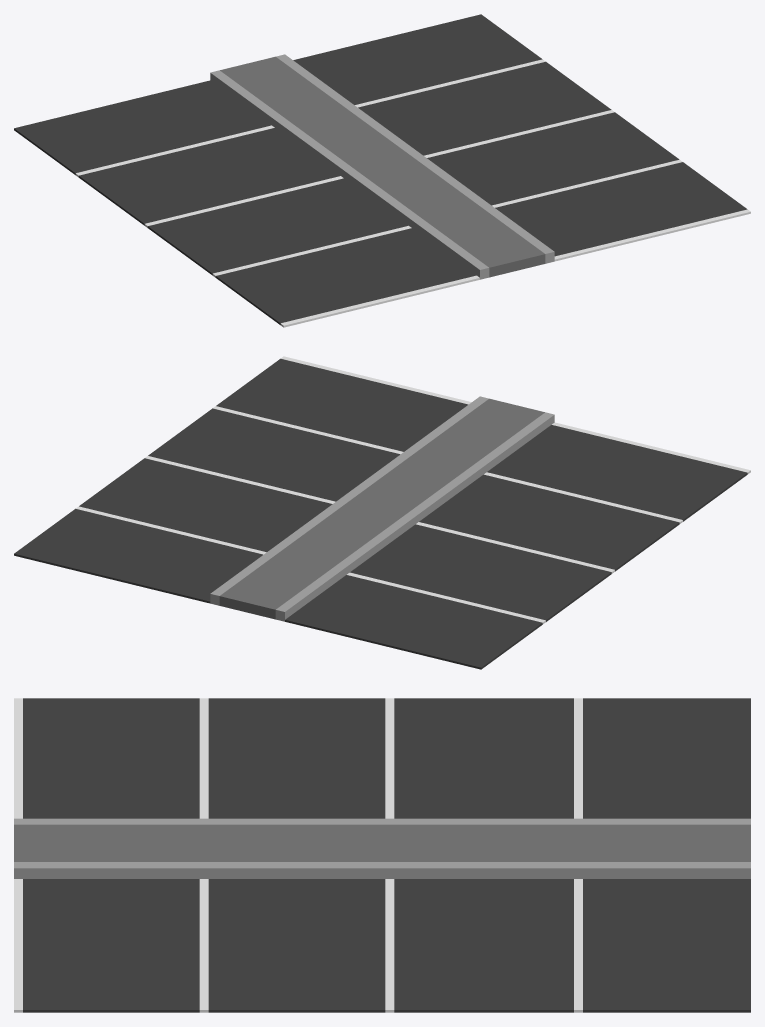
The model's file is parking.vox.obj.
3 renders of one model, top to bottom at view 1: azimuth 30°, elevation 25°; view 2: azimuth 150°, elevation 25°; view 3: azimuth 270°, elevation 25°, orthographic. The views are drawn at different scales.
Bounding box in the file's own units: 25 × 0.5 × 25.
1 material, 1 textured.
